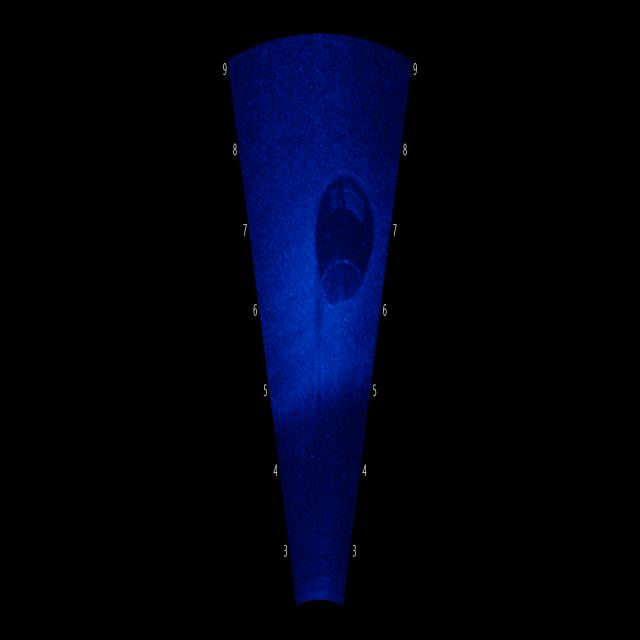circle: (311, 153, 377, 314)
